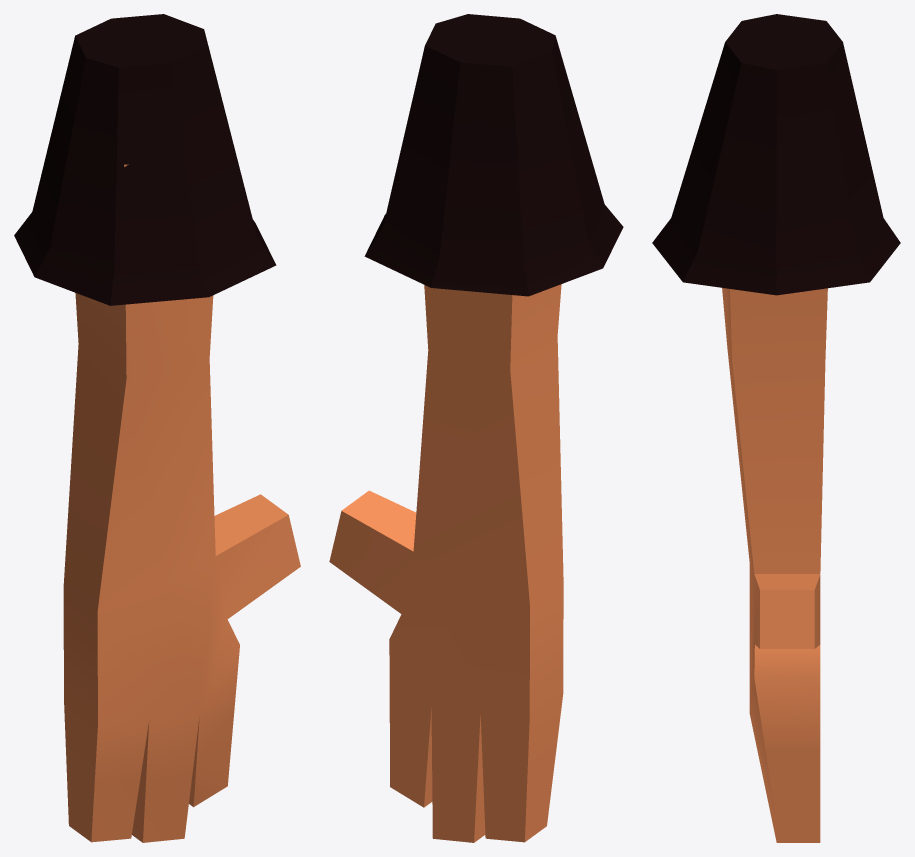
3 renders of one model, left to right at view 1: azimuth 30°, elevation 25°; view 2: azimuth 150°, elevation 25°; view 3: azimuth 270°, elevation 25°, orthographic. The views are drawn at different scales.
Visible parts, largest first — view 1: rightArm; view 2: rightArm; view 3: rightArm.
Part boxes in pixels (x1,y1,x2,y2): rightArm: (14, 14, 300, 842); rightArm: (329, 14, 623, 842); rightArm: (652, 14, 900, 842).
Bounding box in the file's own units: 1.55 × 4.63 × 1.33.
